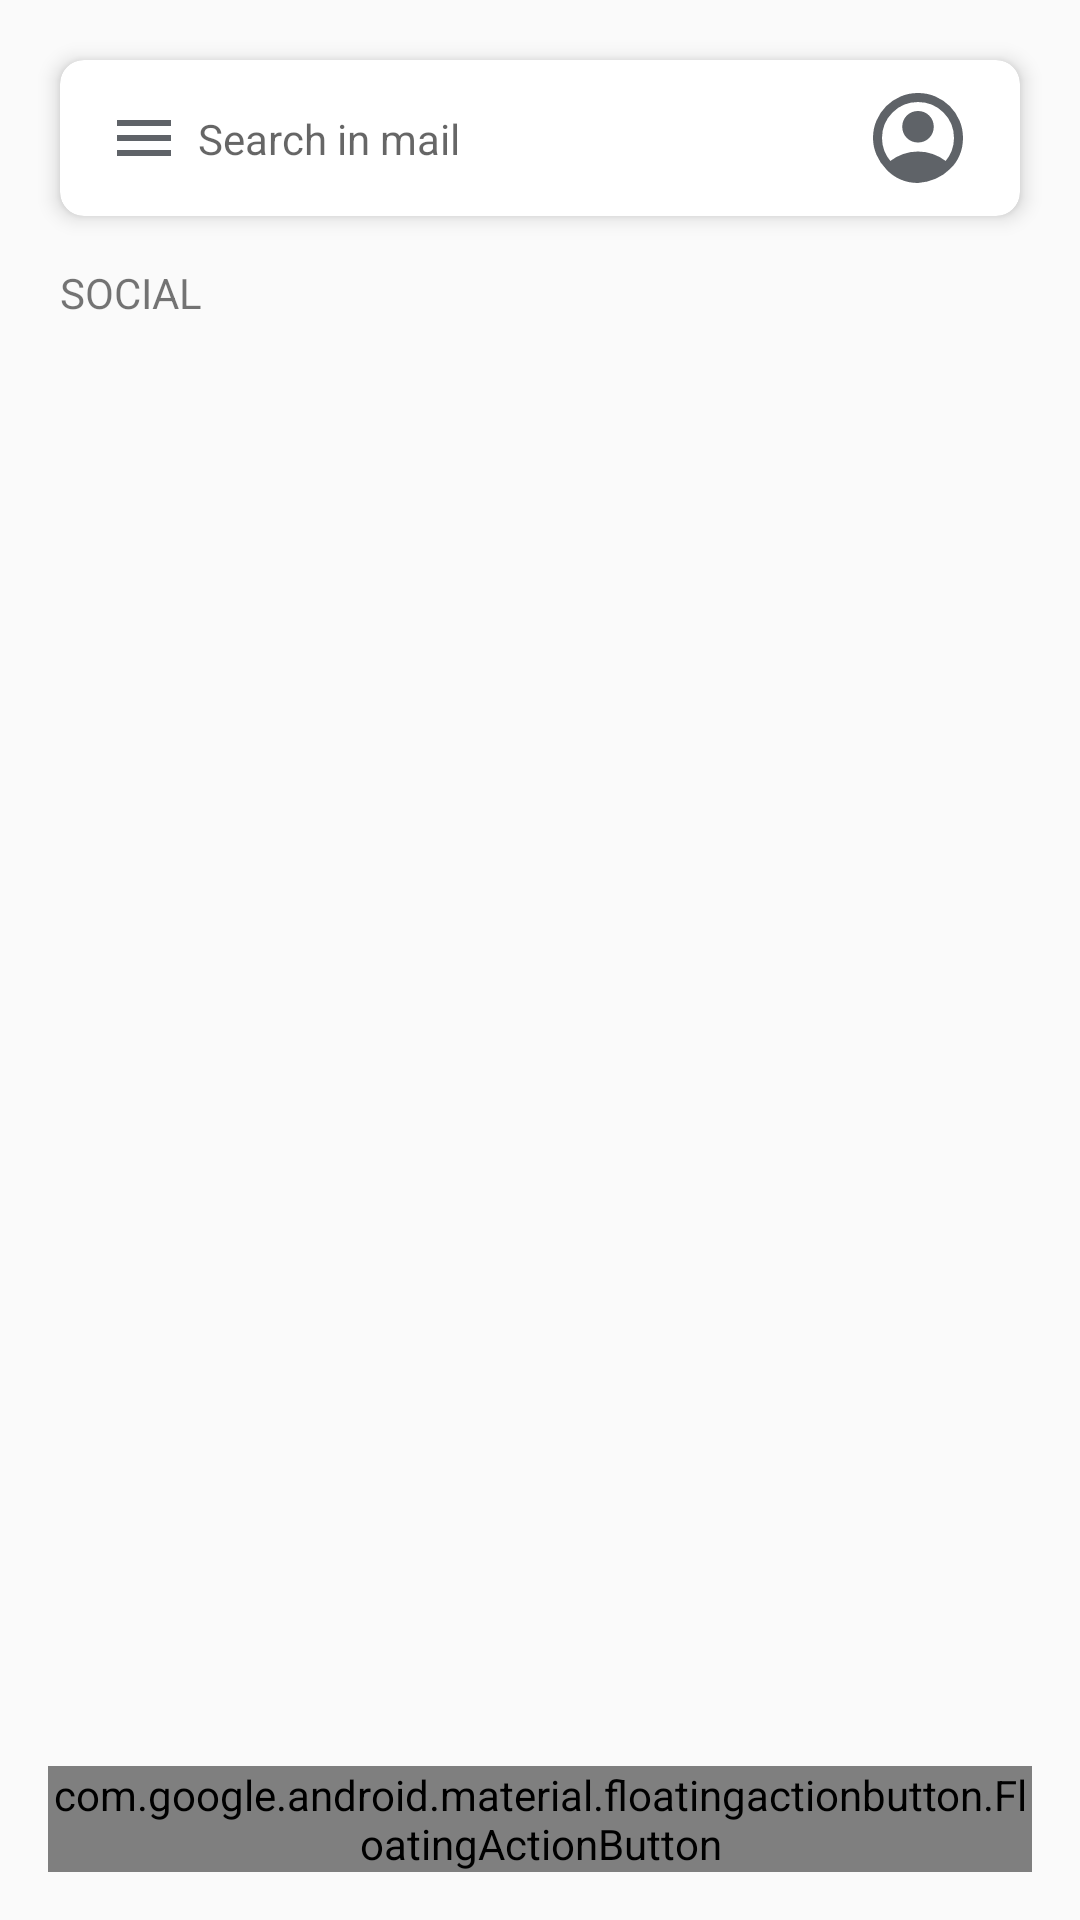

Screen size 1080px x 1920px. Icon name, then its box in pixels as Rect(x1, y1, x2, y2):
Default account Icon: Rect(873, 93, 963, 183)
Hamburger menu icon: Rect(117, 120, 171, 156)
